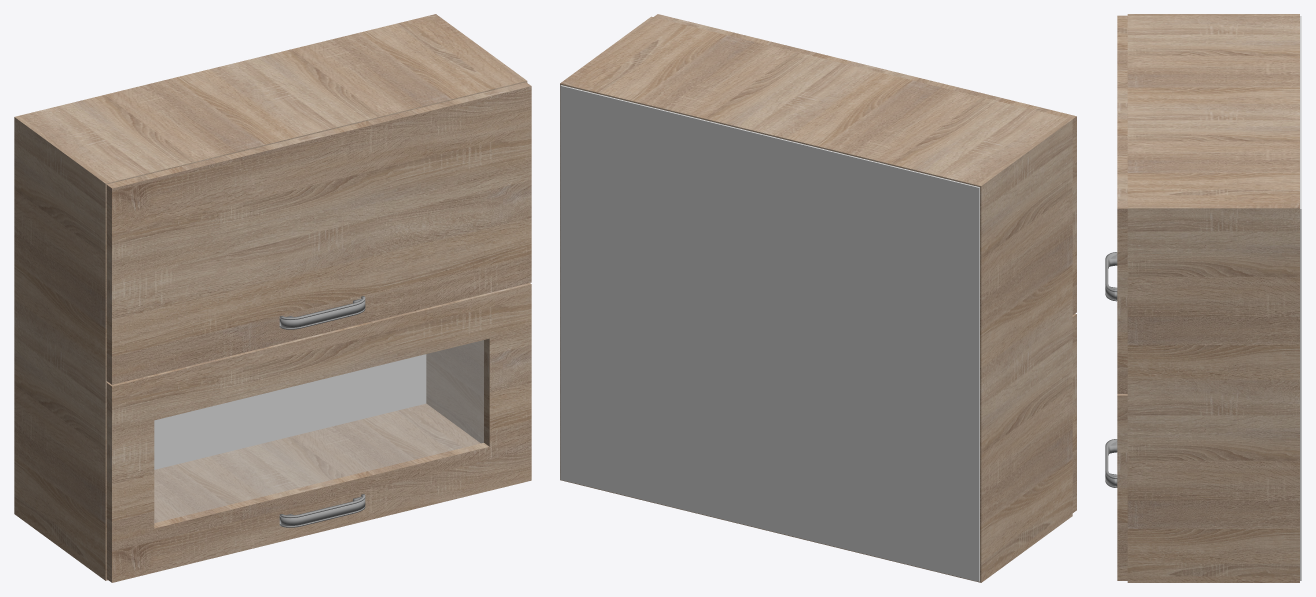
Rendered from s_f2fau_72_80.glb.
3 views of the same model, side by side, from view 1: azimuth 30°, elevation 25°; view 2: azimuth 150°, elevation 25°; view 3: azimuth 270°, elevation 25° (orthographic). The views are drawn at different scales.
Parts seen in each view (by area): view 1: s_f2fau_72_80_korpusz, s_f2fau_72_80_ajto_1, s_f2fau_72_80_ajto_2, s_f2fau_72_80_uveg, s_f2fau_72_80_fogo_2, s_f2fau_72_80_fogo_1; view 2: s_f2fau_72_80_korpusz, s_f2fau_72_80_ajto_1, s_f2fau_72_80_ajto_2; view 3: s_f2fau_72_80_korpusz, s_f2fau_72_80_ajto_1, s_f2fau_72_80_ajto_2, s_f2fau_72_80_fogo_1, s_f2fau_72_80_fogo_2.
Boxes of the visible parts, <box> form: s_f2fau_72_80_korpusz: <box>14,14,527,580</box>; s_f2fau_72_80_ajto_1: <box>106,82,531,384</box>; s_f2fau_72_80_ajto_2: <box>106,283,531,582</box>; s_f2fau_72_80_uveg: <box>154,340,483,522</box>; s_f2fau_72_80_fogo_2: <box>279,494,365,527</box>; s_f2fau_72_80_fogo_1: <box>279,296,365,329</box>; s_f2fau_72_80_korpusz: <box>560,16,1072,582</box>; s_f2fau_72_80_ajto_1: <box>653,14,1076,314</box>; s_f2fau_72_80_ajto_2: <box>1072,313,1076,512</box>; s_f2fau_72_80_korpusz: <box>1127,14,1301,582</box>; s_f2fau_72_80_ajto_1: <box>1117,15,1127,393</box>; s_f2fau_72_80_ajto_2: <box>1117,394,1127,580</box>; s_f2fau_72_80_fogo_1: <box>1105,252,1117,301</box>; s_f2fau_72_80_fogo_2: <box>1105,439,1117,487</box>.
Bounding box in the file's own units: 0.8 × 0.72 × 0.3418.
Materials: 6 (3 with a texture image).
